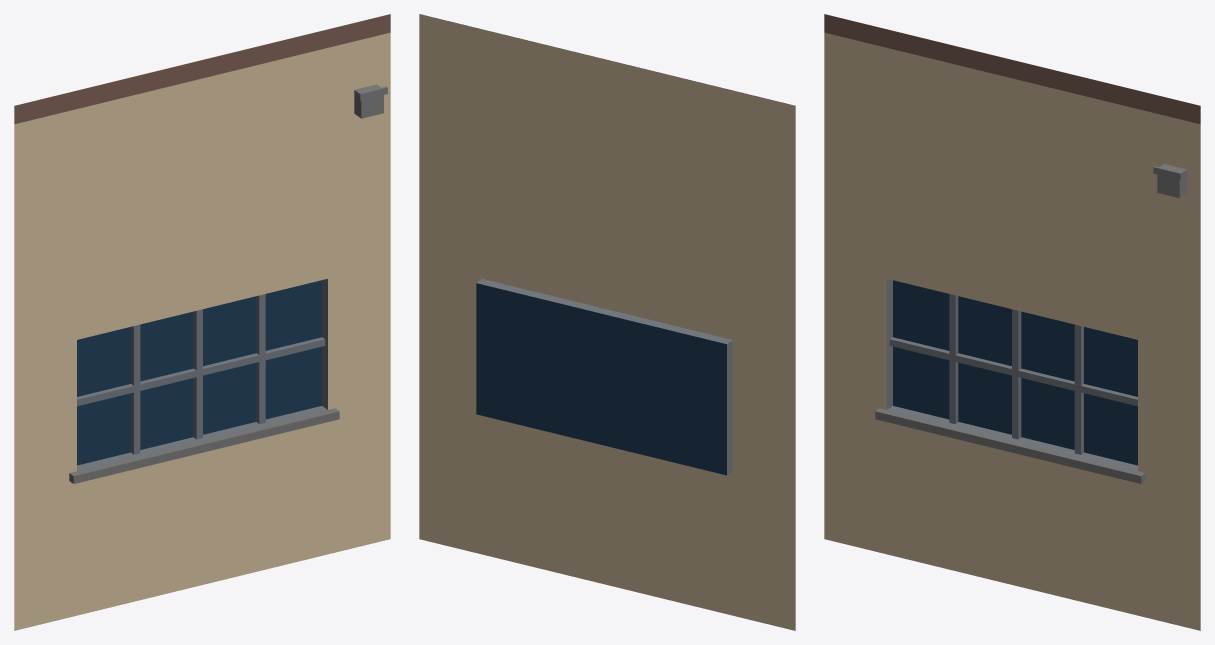
Rendered from mid-w1_close.fbx.
The picture shows the model from 3 angles, left to right: view 1: azimuth 30°, elevation 25°; view 2: azimuth 150°, elevation 25°; view 3: azimuth 330°, elevation 25°; orthographic projection.
Parts seen in each view (by area): view 1: a2004/500/mid-w1_close; view 2: a2004/500/mid-w1_close; view 3: a2004/500/mid-w1_close.
Part boxes in pixels (bbox=[...]): a2004/500/mid-w1_close: bbox=[14, 14, 390, 630]; a2004/500/mid-w1_close: bbox=[419, 14, 795, 630]; a2004/500/mid-w1_close: bbox=[824, 14, 1200, 630].
Size of the model in its own units: 3 by 4 by 0.2.
